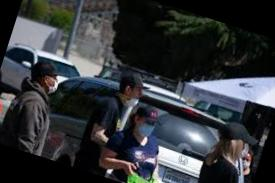mask_weared_incorrect: (128, 87, 148, 109)
with_mask: (134, 117, 158, 141), (42, 72, 64, 97), (236, 140, 253, 161), (239, 155, 252, 173)
